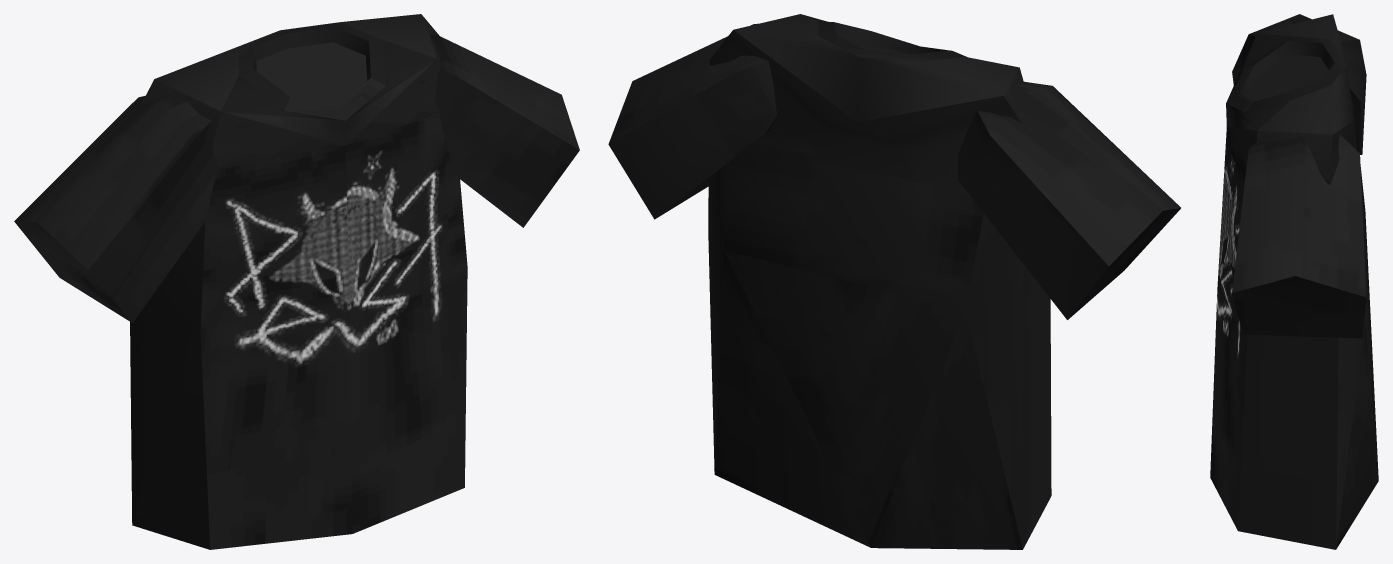
File: PESTSHIRT.glb
3 renders of one model, left to right at view 1: azimuth 30°, elevation 25°; view 2: azimuth 150°, elevation 25°; view 3: azimuth 270°, elevation 25°, orthographic. The views are drawn at different scales.
Parts seen in each view (by area): view 1: TMD_object_#6,_VRAM_page_#5.001; view 2: TMD_object_#6,_VRAM_page_#5.001; view 3: TMD_object_#6,_VRAM_page_#5.001.
Part boxes in pixels (bbox=[...]): TMD_object_#6,_VRAM_page_#5.001: bbox=[14, 14, 579, 549]; TMD_object_#6,_VRAM_page_#5.001: bbox=[608, 14, 1180, 549]; TMD_object_#6,_VRAM_page_#5.001: bbox=[1210, 14, 1378, 549].
Size of the model in its own units: 2.91 by 2.48 by 0.8773.
1 material, 1 textured.
